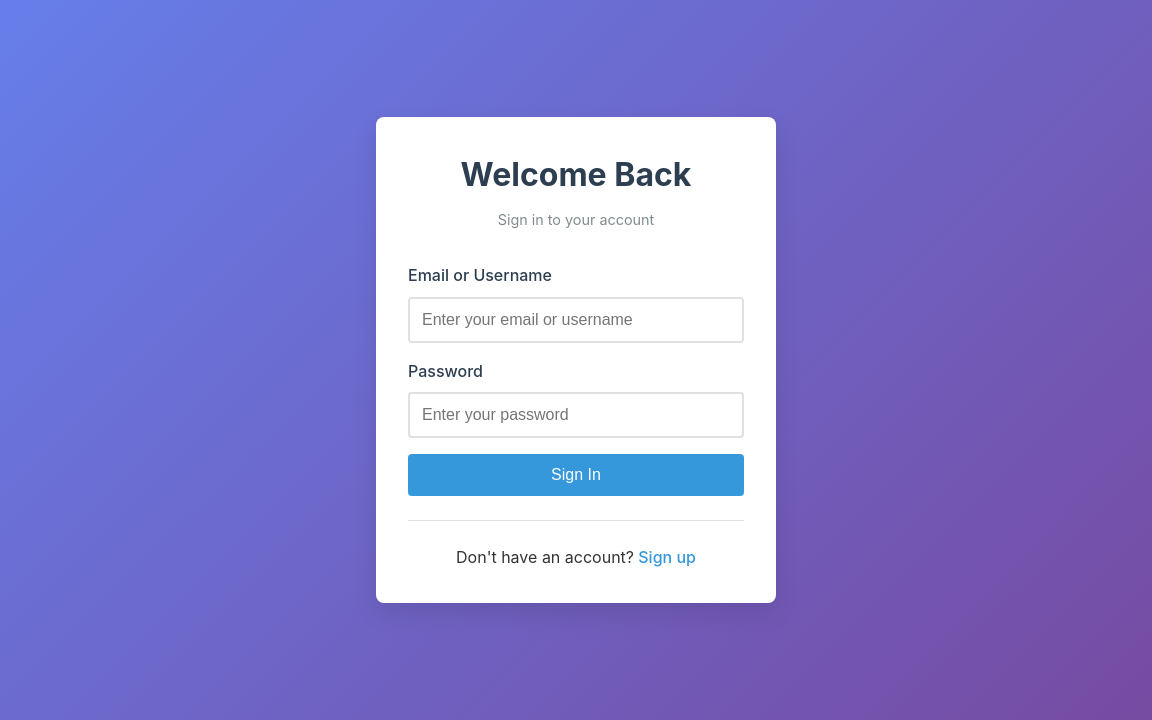
Scenario: Login Page › clears field errors when user starts typing
# Trigger validation errors
Step 1. Click the button "Sign In" → (576, 475), box [408,454,744,496]
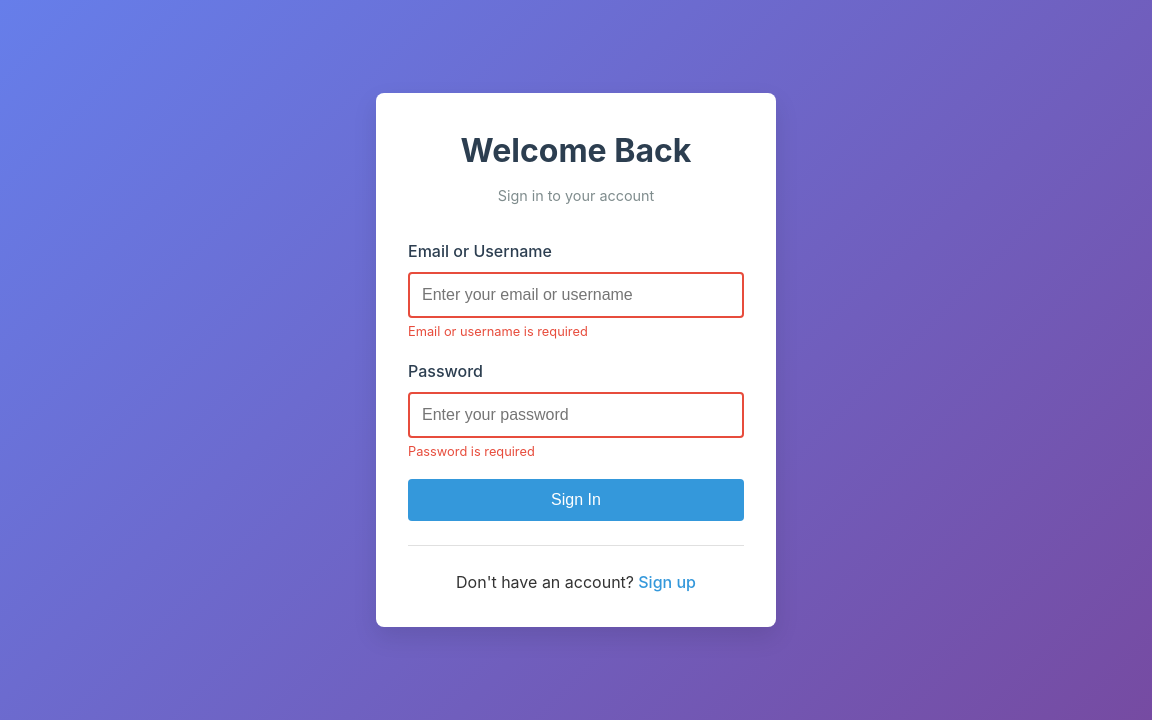
Now the text "Email or username is required" is shown, box [408,324,588,339]
# Start typing in email field
Step 2. Type "test" into the field labelled "Email or Username" → (576, 295), box [408,272,744,318]
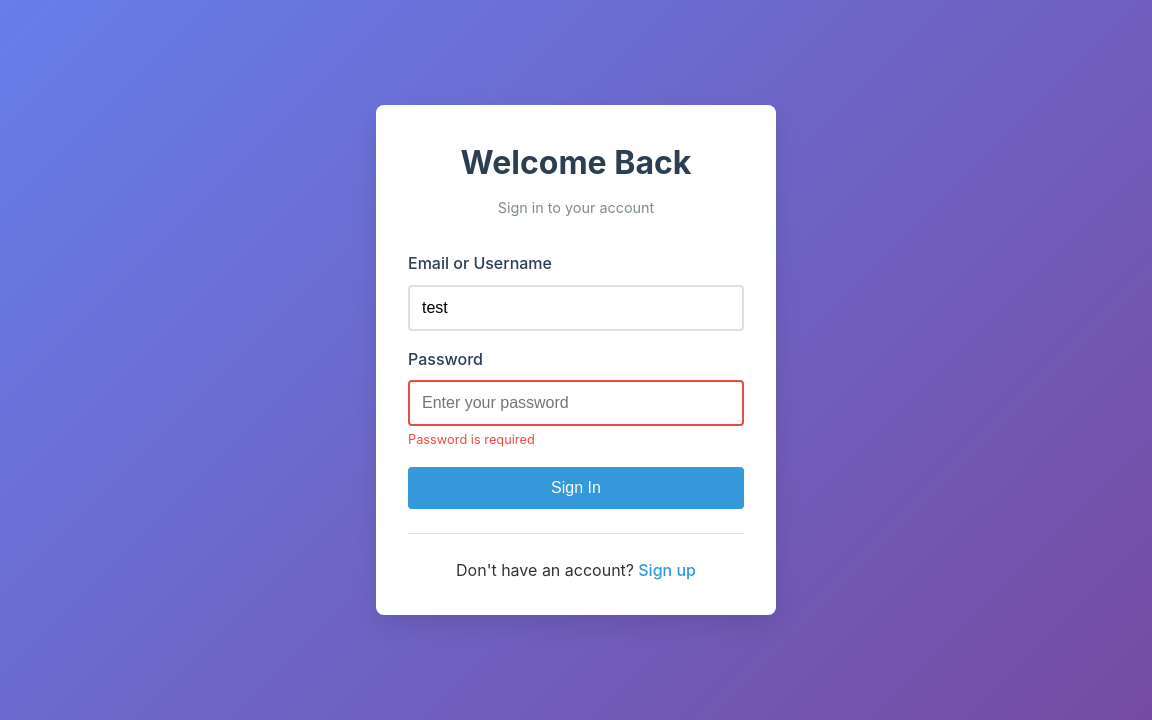
Now the text "Email or username is required" is gone
